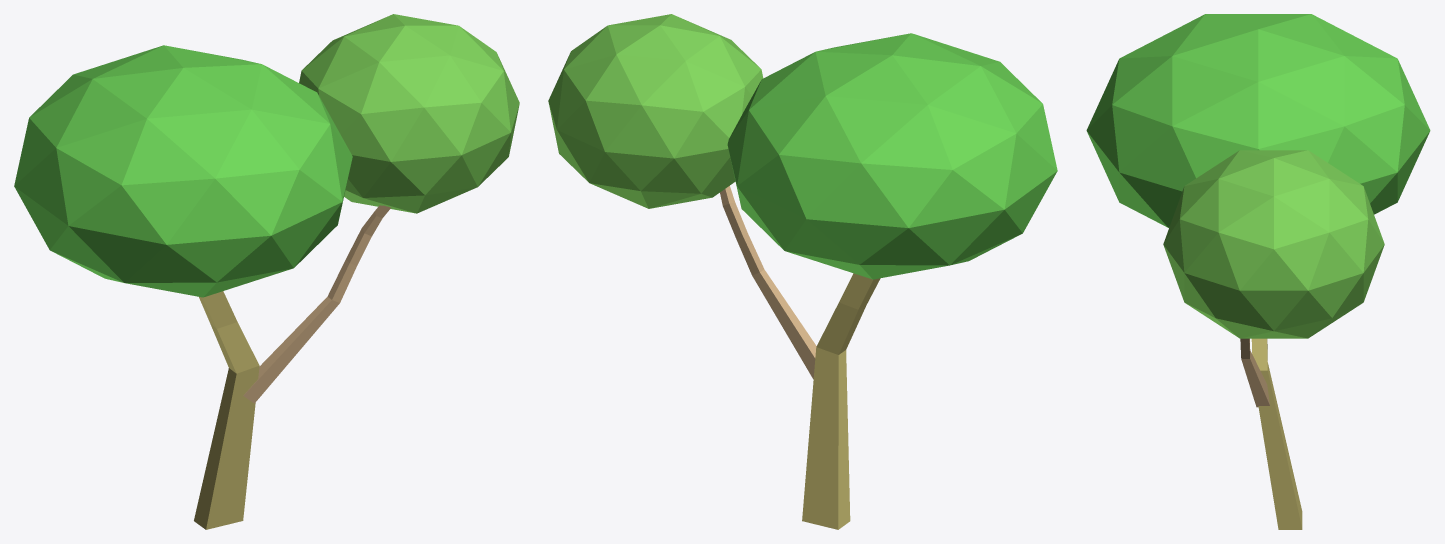
The model's file is treeb.glb.
The picture shows the model from 3 angles, left to right: view 1: azimuth 30°, elevation 25°; view 2: azimuth 150°, elevation 25°; view 3: azimuth 270°, elevation 25°; orthographic projection. The views are drawn at different scales.
Visible parts, largest first — view 1: Icosphere.002_Icosphere.003, Icosphere.003_Icosphere.004, Cube_Cube.002, Cube.001_Cube.003; view 2: Icosphere.002_Icosphere.003, Icosphere.003_Icosphere.004, Cube_Cube.002, Cube.001_Cube.003; view 3: Icosphere.002_Icosphere.003, Icosphere.003_Icosphere.004, Cube_Cube.002, Cube.001_Cube.003.
Part boxes in pixels (x1,y1,x2,y2): Icosphere.002_Icosphere.003: (14, 45, 352, 297); Icosphere.003_Icosphere.004: (299, 14, 519, 213); Cube_Cube.002: (194, 291, 259, 529); Cube.001_Cube.003: (243, 205, 390, 403); Icosphere.002_Icosphere.003: (727, 33, 1057, 279); Icosphere.003_Icosphere.004: (548, 14, 763, 208); Cube_Cube.002: (802, 273, 880, 529); Cube.001_Cube.003: (720, 186, 816, 379); Icosphere.002_Icosphere.003: (1086, 14, 1430, 227); Icosphere.003_Icosphere.004: (1163, 150, 1384, 338); Cube_Cube.002: (1251, 338, 1302, 529); Cube.001_Cube.003: (1240, 338, 1269, 407).
Size of the model in its own units: 6.62 by 6.44 by 4.3.
